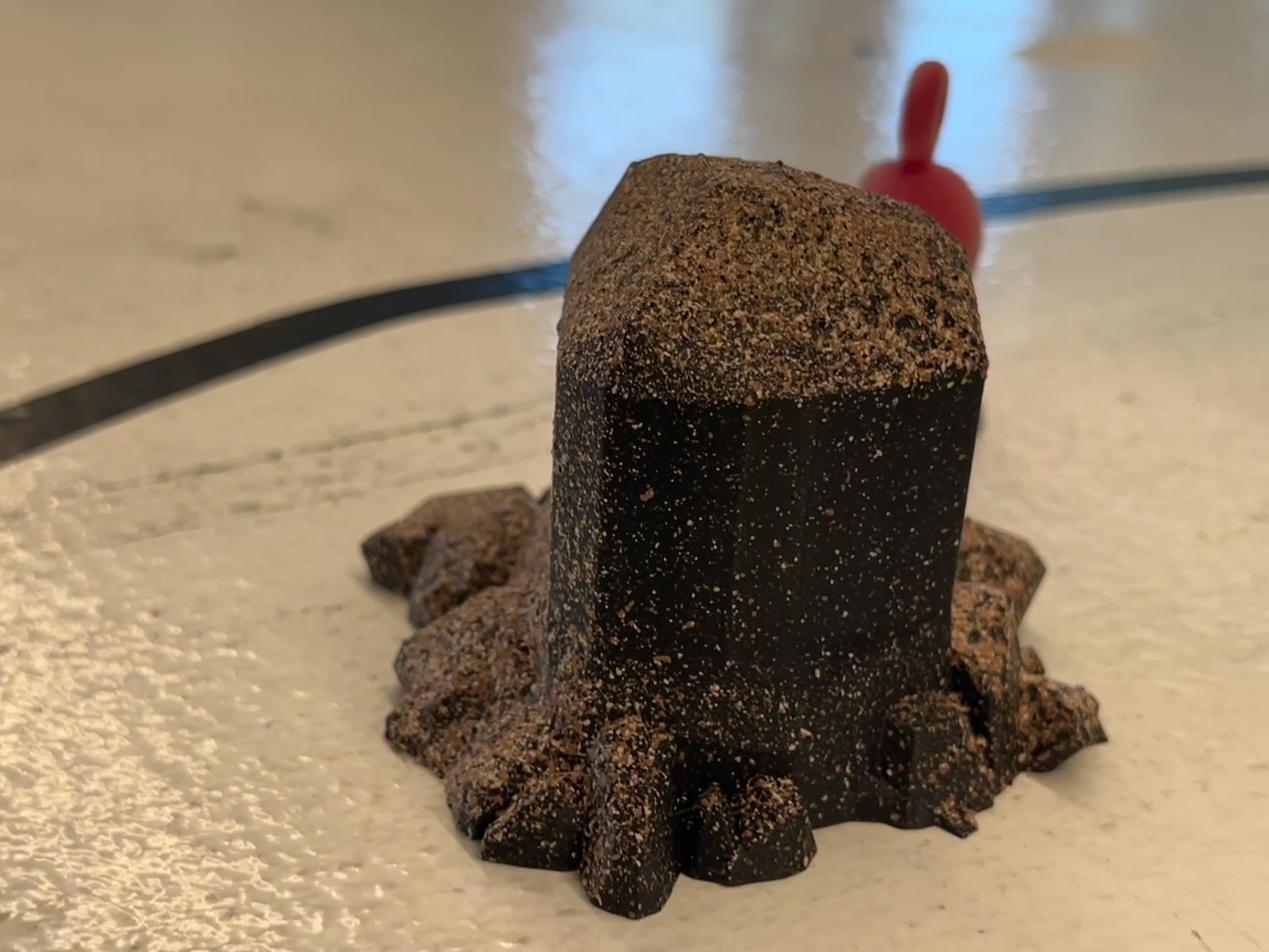teletubby: (859, 61, 981, 266)
